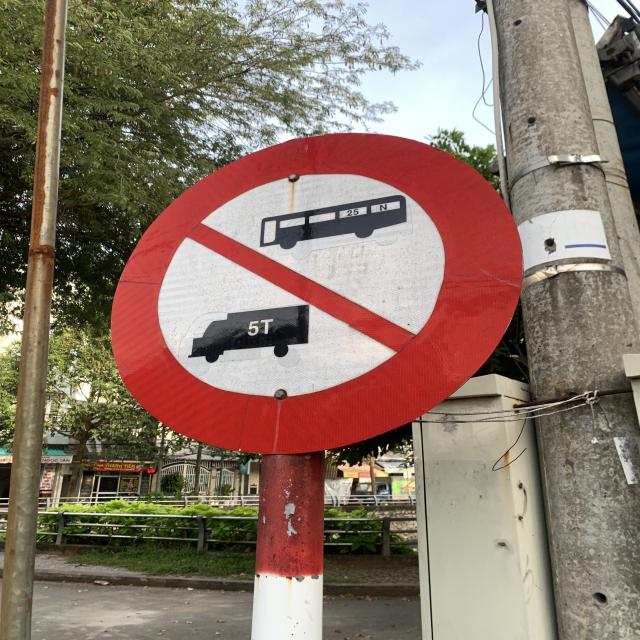Cam_XeTai_XeKhach: (110, 129, 519, 454)
